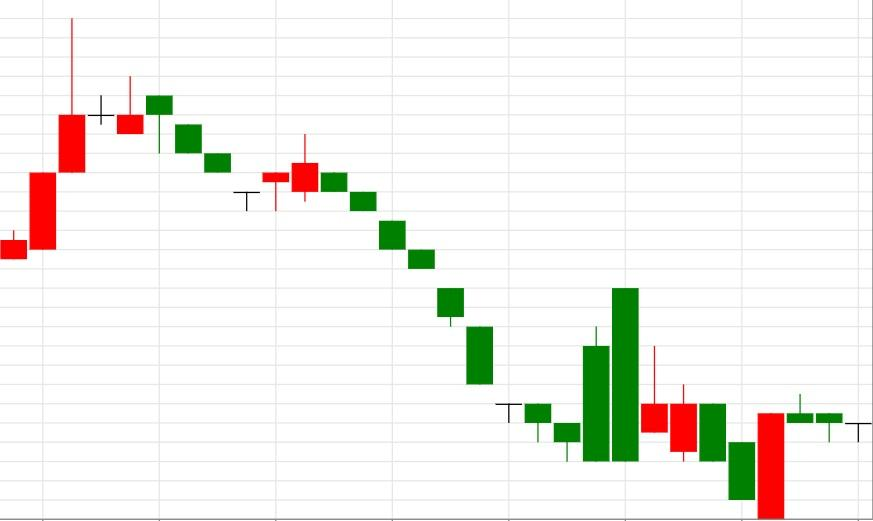bullish_engulfing_rise: (611, 288, 785, 520)
three_black_crows_fall: (0, 19, 232, 260)
